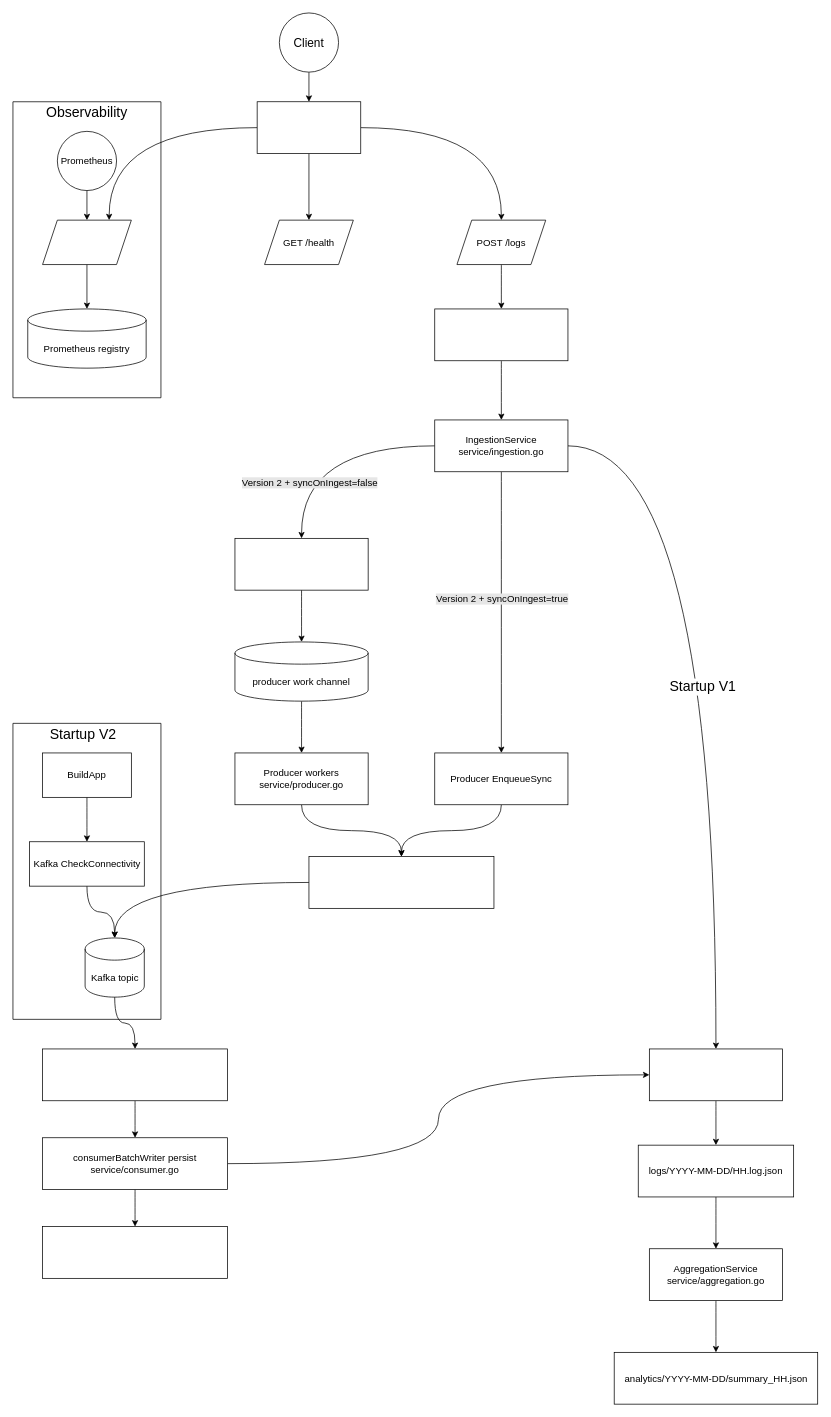
This 831x1417 diagram has some shape labels left out. The shapes that lost their labels are listed below. From the top down, each one's centre as x and y in pixels, then its label:
At point (308, 127): "HTTP server cmd/bootstrap/app.go".
At point (86, 242): "GET /metrics".
At point (501, 334): "Decode + validate internal/http/handler.go".
At point (301, 564): "Producer Enqueue".
At point (401, 882): "KafkaLogQueue EnqueueBatch internal/queue/kafka_queue_producer.go".
At point (135, 1074): "Kafka readers internal/queue/kafka_queue_consumer.go".
At point (716, 1074): "FileRepo SaveBatch repo/file_repo.go".
At point (135, 1252): "Commit offet after persist".
